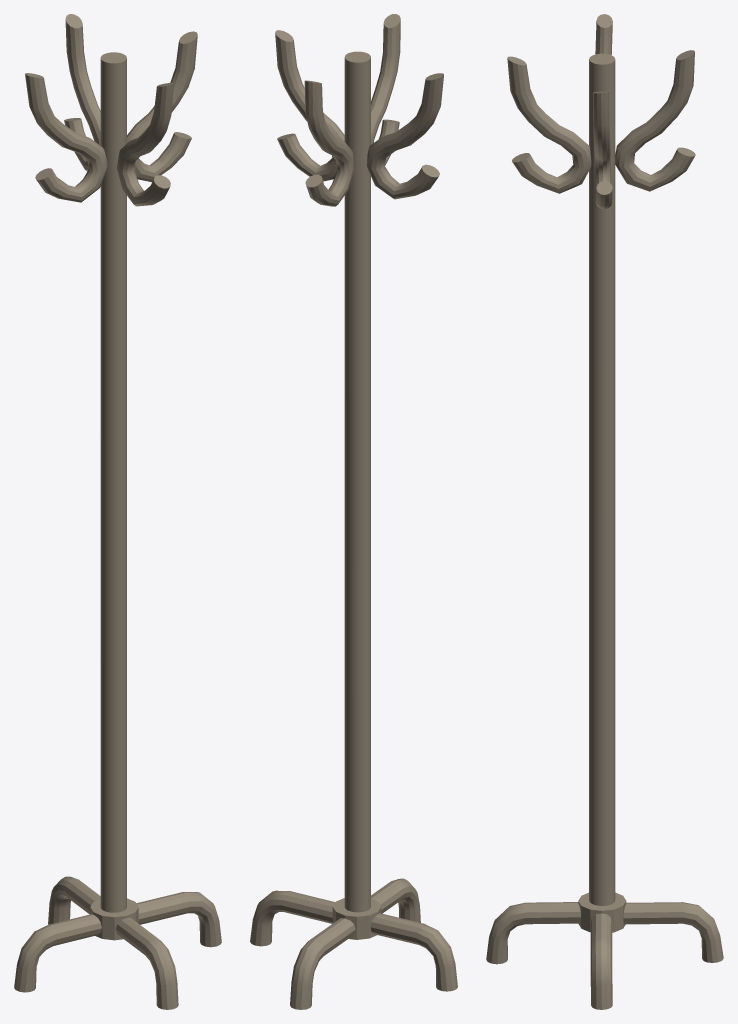
File: coat_hanger_1.fbx
3 views of the same model, side by side, from view 1: azimuth 30°, elevation 25°; view 2: azimuth 150°, elevation 25°; view 3: azimuth 270°, elevation 25° (orthographic).
Visible parts, largest first — view 1: ch_stand1; view 2: ch_stand1; view 3: ch_stand1.
Boxes of the visible parts, bbox=[...] form: ch_stand1: bbox=[14, 14, 221, 1009]; ch_stand1: bbox=[250, 14, 457, 1009]; ch_stand1: bbox=[486, 14, 723, 1009].
Bounding box in the file's own units: 9.74 × 41.69 × 9.88.
